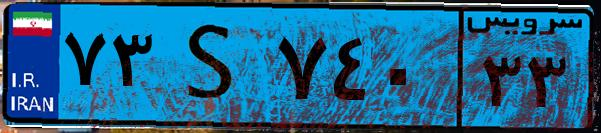0: (385, 28, 445, 110)
3: (475, 38, 525, 113), (525, 38, 570, 115), (110, 28, 158, 98)
4: (330, 28, 385, 110)
7: (270, 28, 330, 110), (57, 26, 110, 100)
S: (158, 12, 270, 120)
